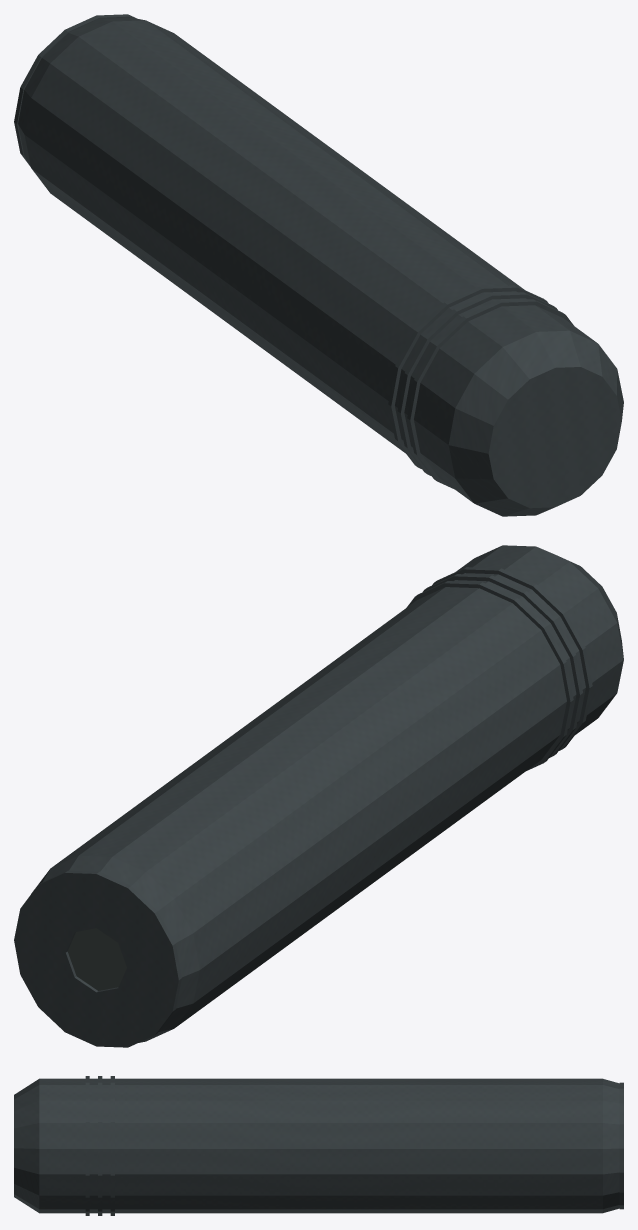
File: ak12_can.glb
3 views of the same model, one above another, from view 1: azimuth 30°, elevation 25°; view 2: azimuth 150°, elevation 25°; view 3: azimuth 270°, elevation 25° (orthographic). The views are drawn at different scales.
Visible parts, largest first — view 1: ak12_can_exterior_shell, ak12_can_exterior_shell.001; view 2: ak12_can_exterior_shell, ak12_can_exterior_shell.001, ak12_can_dark_aperture; view 3: ak12_can_exterior_shell.
Boxes of the visible parts, bbox=[...] form: ak12_can_exterior_shell: bbox=[14, 14, 623, 516]; ak12_can_exterior_shell.001: bbox=[17, 18, 620, 506]; ak12_can_exterior_shell: bbox=[14, 545, 623, 1047]; ak12_can_exterior_shell.001: bbox=[15, 874, 178, 1045]; ak12_can_dark_aperture: bbox=[67, 928, 126, 990]; ak12_can_exterior_shell: bbox=[14, 1076, 623, 1215].
Size of the model in its own units: 0.0666 by 0.0666 by 0.29.
Materials: 2 (1 with a texture image).
